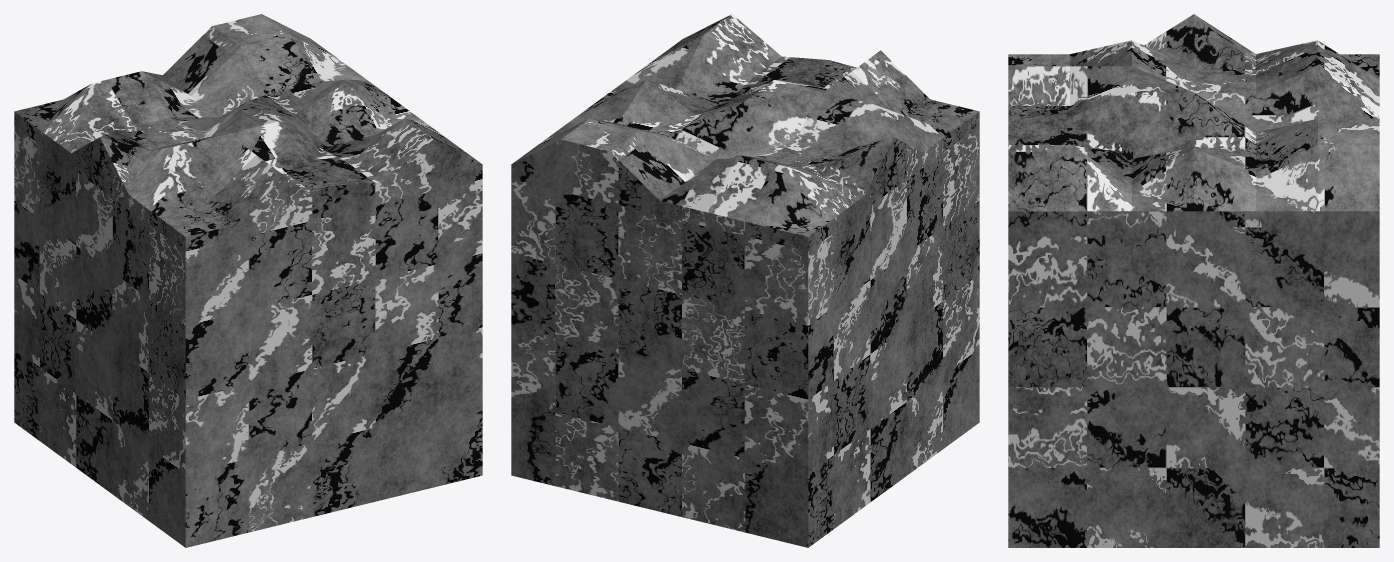
The model's file is asset.glb.
3 views of the same model, side by side, from view 1: azimuth 30°, elevation 25°; view 2: azimuth 150°, elevation 25°; view 3: azimuth 270°, elevation 25° (orthographic). The views are drawn at different scales.
Parts seen in each view (by area): view 1: Cube; view 2: Cube; view 3: Cube.
Boxes of the visible parts, <box> form: Cube: <box>14,14,482,547</box>; Cube: <box>511,14,979,547</box>; Cube: <box>1008,14,1379,547</box>.
Bounding box in the file's own units: 2 × 2.24 × 2.
1 material, 1 textured.
